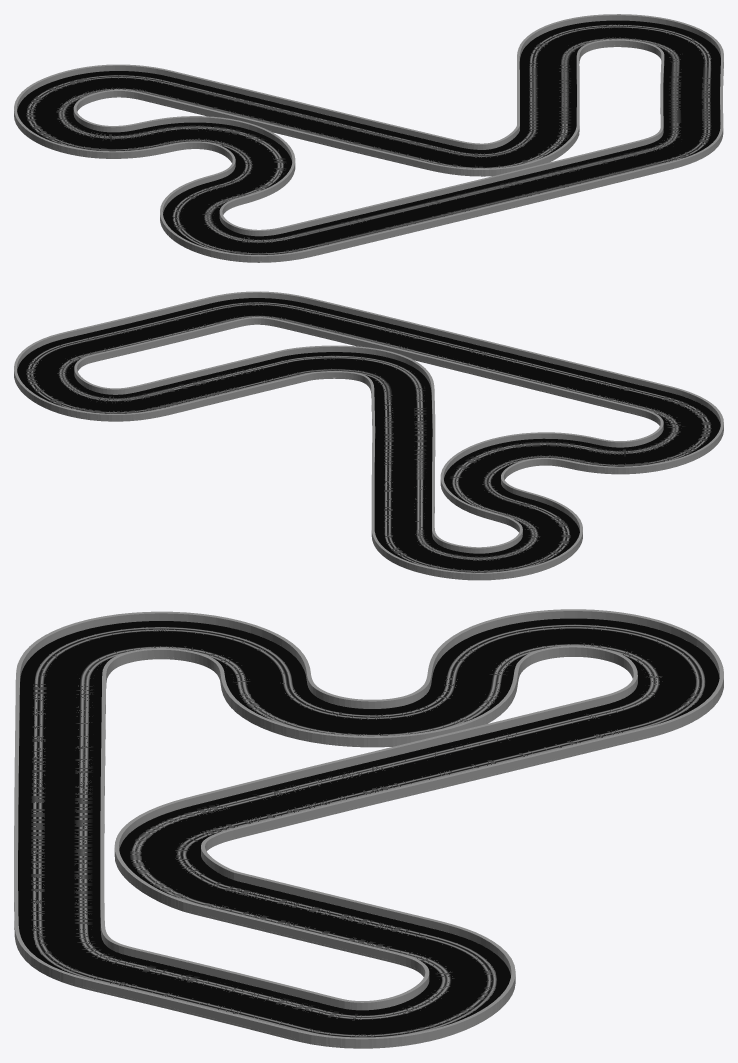
The model's file is track1.obj.
The picture shows the model from 3 angles, top to bottom: view 1: azimuth 30°, elevation 25°; view 2: azimuth 150°, elevation 25°; view 3: azimuth 270°, elevation 25°; orthographic projection. The views are drawn at different scales.
Parts seen in each view (by area): view 1: Track_Cube; view 2: Track_Cube; view 3: Track_Cube.
Boxes of the visible parts, box(x1,y1,x2,y2) form: Track_Cube: box(14, 14, 723, 262); Track_Cube: box(14, 291, 723, 580); Track_Cube: box(14, 609, 723, 1048).
Size of what is drawn, in the model's own units: 198 by 2.02 by 138.
